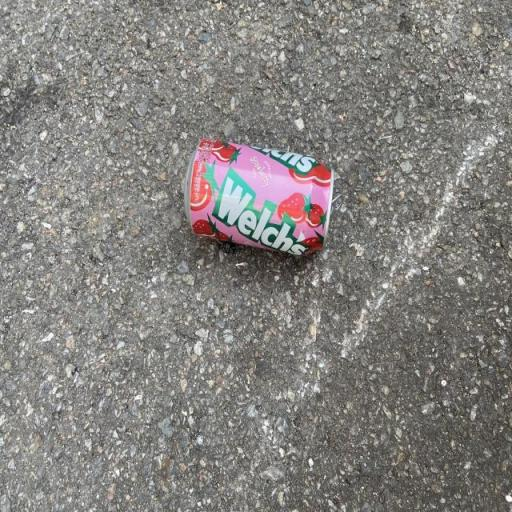metal: (164, 116, 360, 292)
